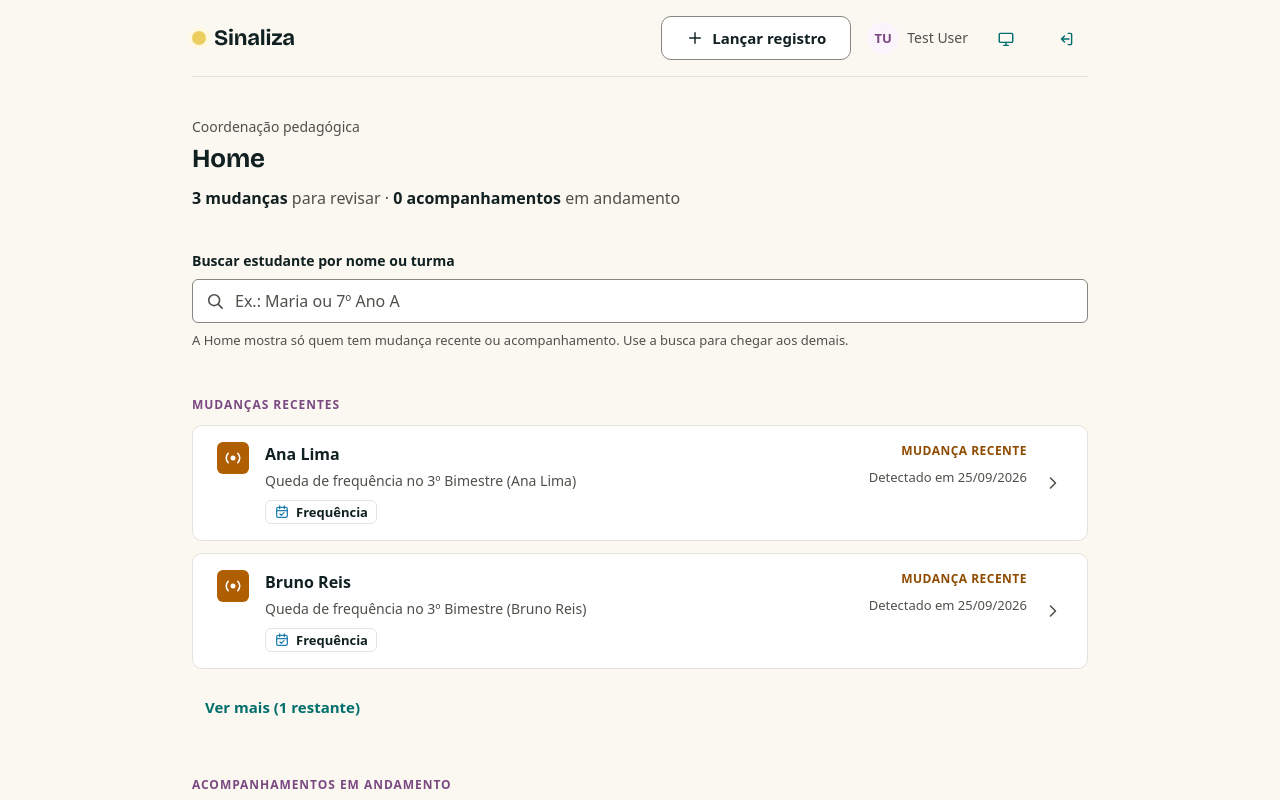
Test: Home — acompanhamentos em andamento (Story 4.5) › keeps the loaded rows and offers a retry when loading more fails
expect the text "Ana Lima" is shown: met, box [265,442,340,466]
Click the button "Ver mais (1 restante)": coordinates (282, 707) [192,685,373,729]
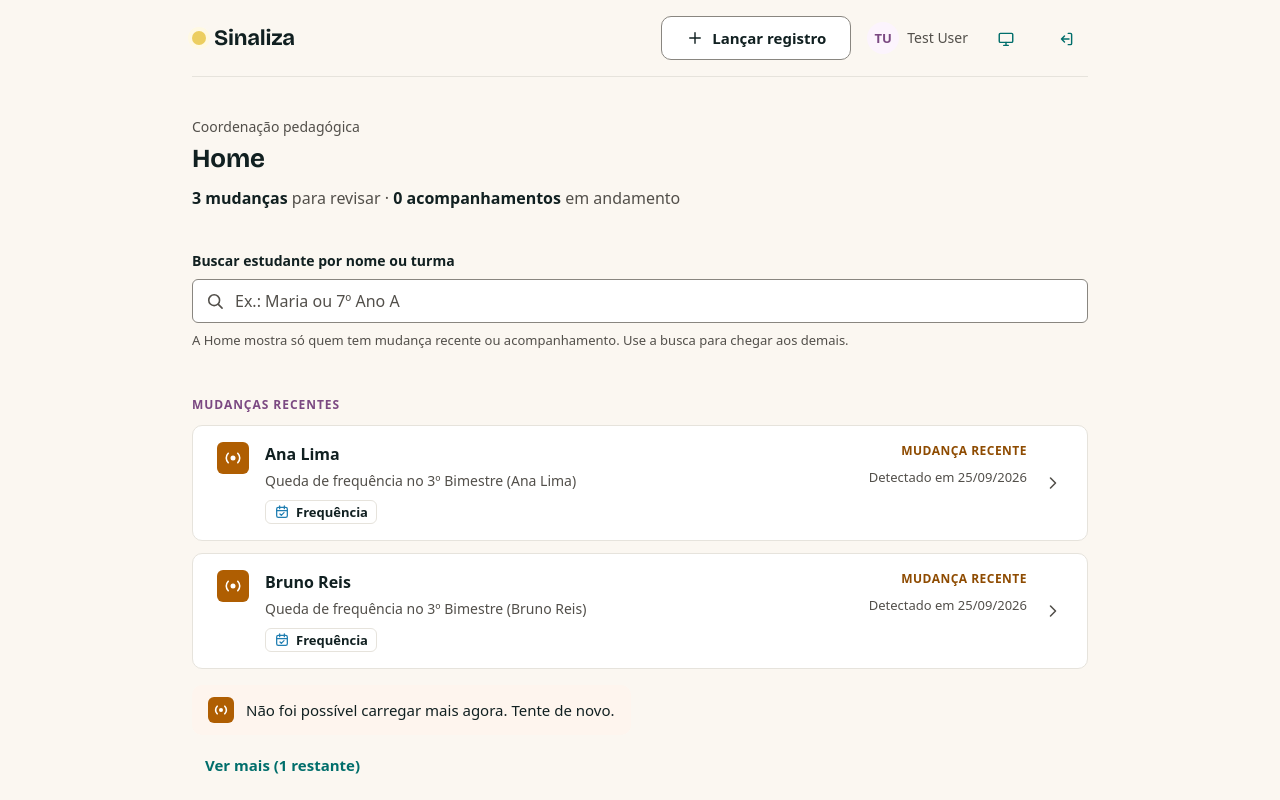
expect the text "Bruno Reis" is shown: met, box [265,570,351,594]
expect the text "Não foi possível carregar mais agora. Tente de novo." is shown: met, box [246,699,615,721]
